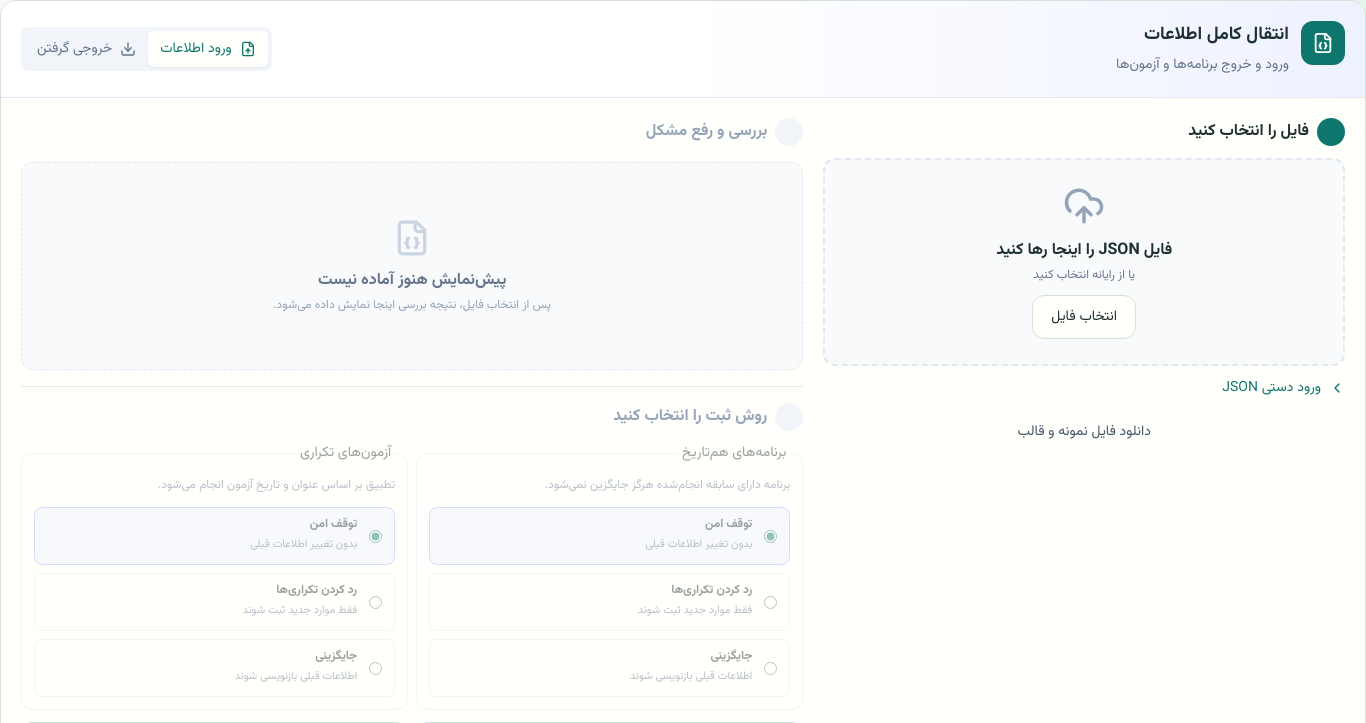
Scenario: data transfer workspace › guides import and exposes manual JSON only on request
Expected: the text "فایل را انتخاب کنید" is shown, x1=1188 y1=120 x2=1309 y2=144
Expected: the text "بررسی و رفع مشکل" is shown, x1=646 y1=120 x2=767 y2=144
Click the button "ورود دستی JSON": (1240, 388) x1=823 y1=378 x2=1345 y2=398
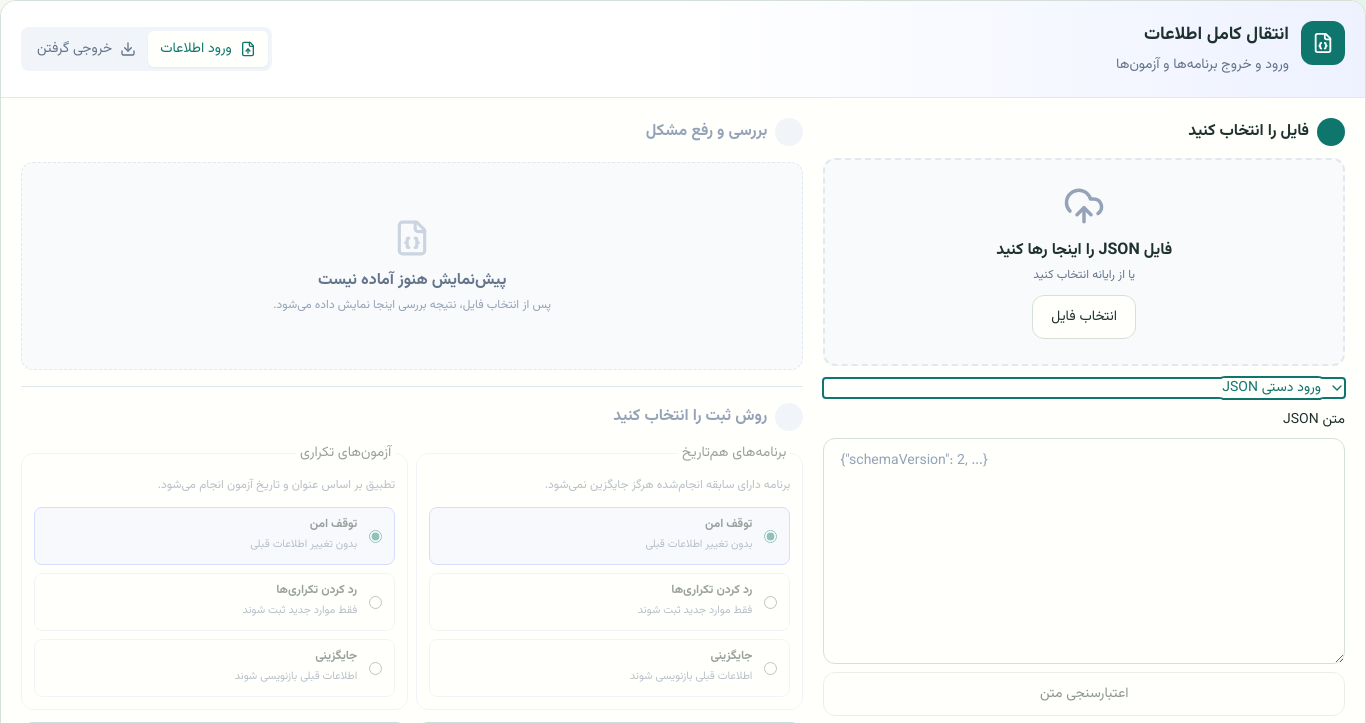
Expected: the text box labelled "متن JSON" is shown, x1=823 y1=438 x2=1345 y2=664
